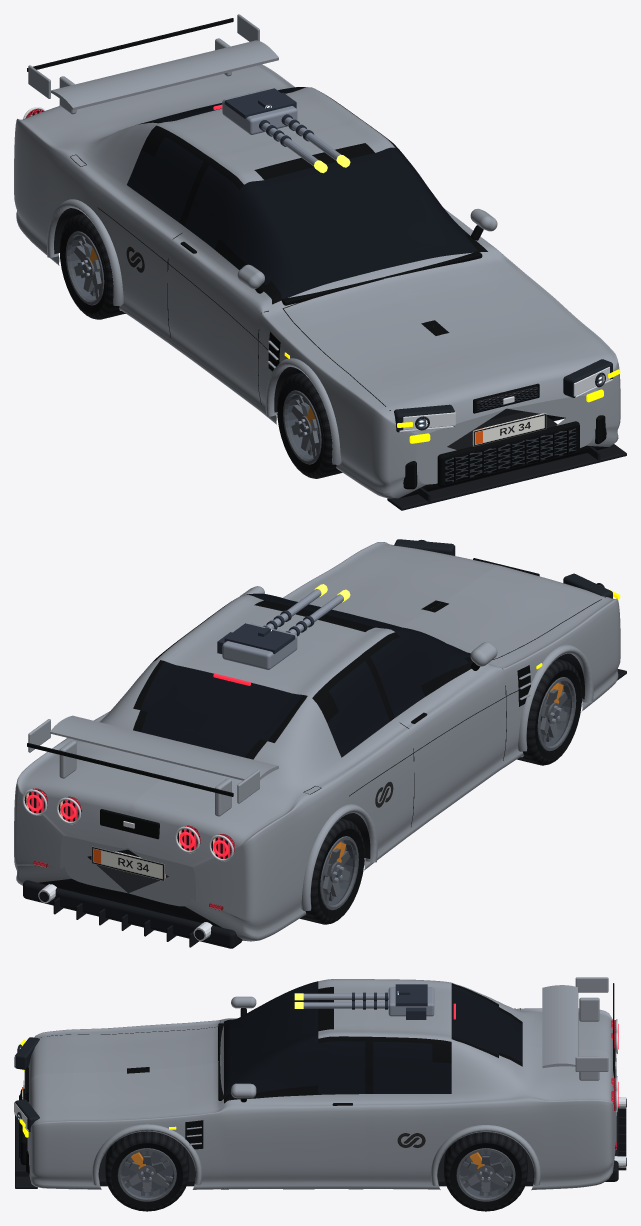
The model's file is raijin_rx.glb.
3 renders of one model, top to bottom at view 1: azimuth 30°, elevation 25°; view 2: azimuth 150°, elevation 25°; view 3: azimuth 270°, elevation 25°, orthographic. The views are drawn at different scales.
Parts seen in each view (by area): view 1: chassis, wheel_FR, wheel_RR, gun; view 2: chassis, wheel_FR, wheel_RR, gun; view 3: chassis, wheel_FL, wheel_RL, gun.
Boxes of the visible parts, x1,y1,x2,y2 form: chassis: (14, 14, 626, 510); wheel_FR: (277, 372, 342, 478); wheel_RR: (59, 213, 123, 319); gun: (222, 88, 350, 173); chassis: (14, 539, 626, 948); wheel_FR: (517, 659, 582, 765); wheel_RR: (300, 818, 364, 924); gun: (217, 584, 350, 669); chassis: (14, 977, 626, 1190); wheel_FL: (105, 1131, 189, 1211); wheel_RL: (444, 1132, 527, 1211); gun: (294, 984, 434, 1019).
Size of the model in its own units: 1.86 by 1.56 by 4.82.
Materials: 26 (7 with a texture image).
